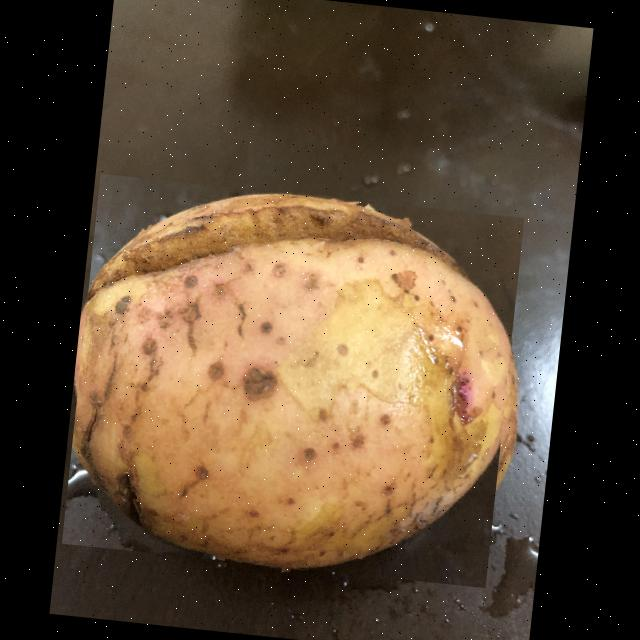Damaged potato: (60, 173, 523, 586)
